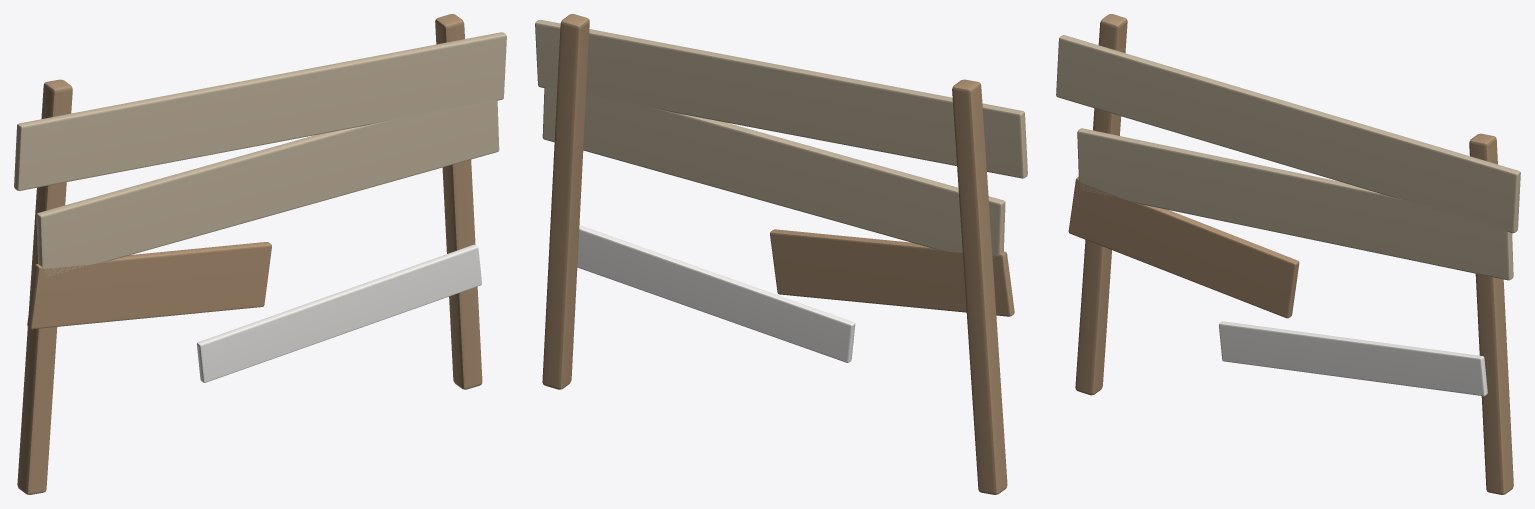
File: SignOld.fbx
The picture shows the model from 3 angles, left to right: view 1: azimuth 30°, elevation 25°; view 2: azimuth 150°, elevation 25°; view 3: azimuth 330°, elevation 25°; orthographic projection. The views are drawn at different scales.
Visible parts, largest first — view 1: SignOld; view 2: SignOld; view 3: SignOld.
Boxes of the visible parts, box(x1,y1,x2,y2) form: SignOld: box(14, 14, 506, 494); SignOld: box(535, 14, 1027, 494); SignOld: box(1056, 14, 1520, 494).
Bounding box in the file's own units: 3.32 × 2.6 × 0.255.
